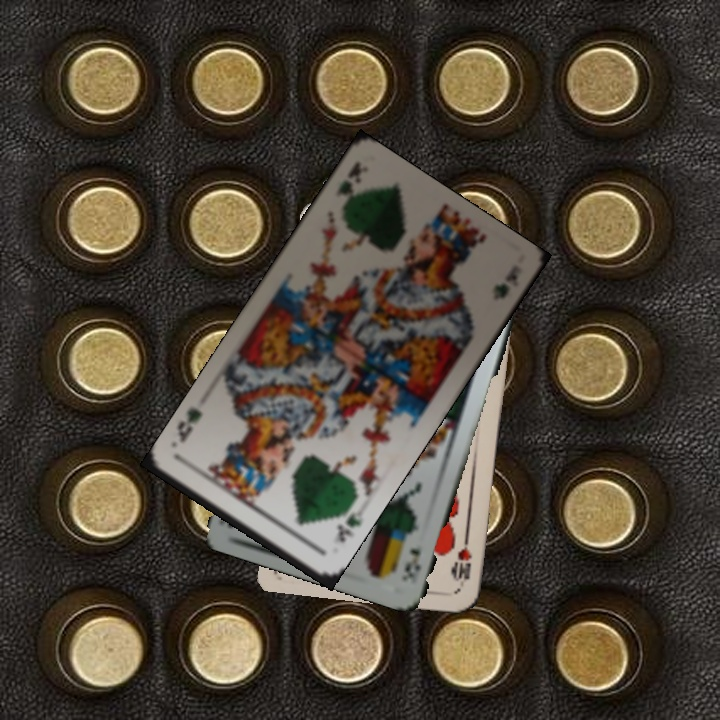EK: (396, 544, 424, 586)
GK: (331, 158, 370, 201), (333, 507, 366, 545)
H10: (449, 531, 475, 584)
